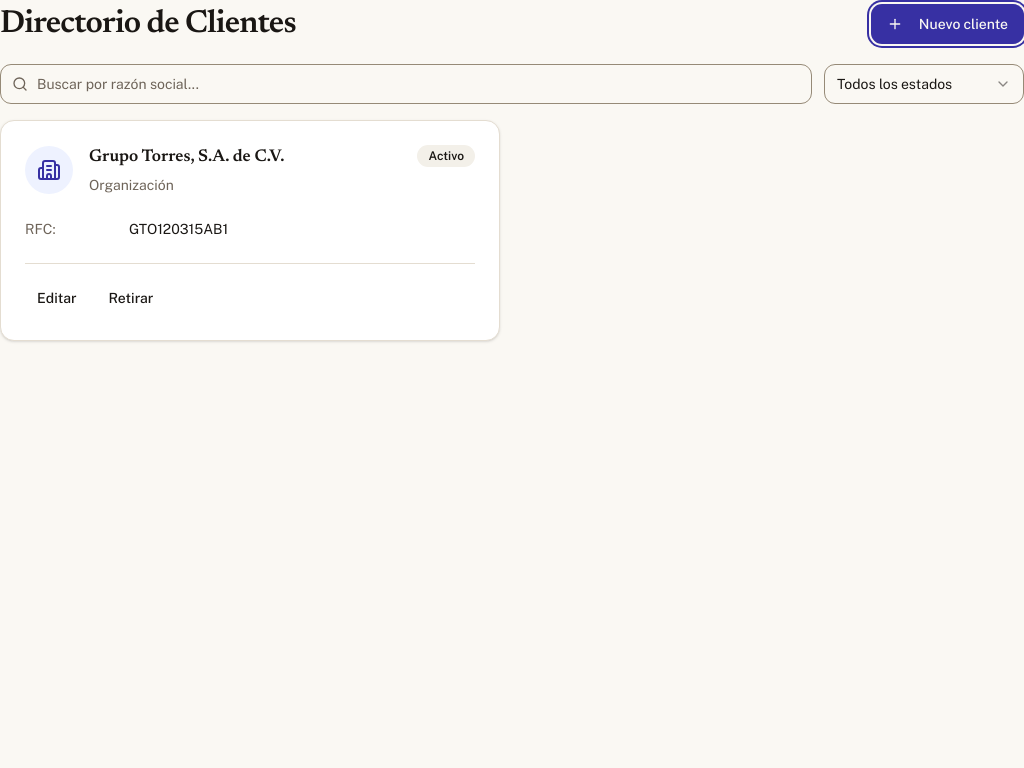
Test case: dialogs keep and return focus › returns focus to the opener when closed with Escape
Expected: the heading "Grupo Torres, S.A. de C.V." is shown, [89,145,284,170]
Click the button "Nuevo cliente": (947, 24) [871,4,1023,44]
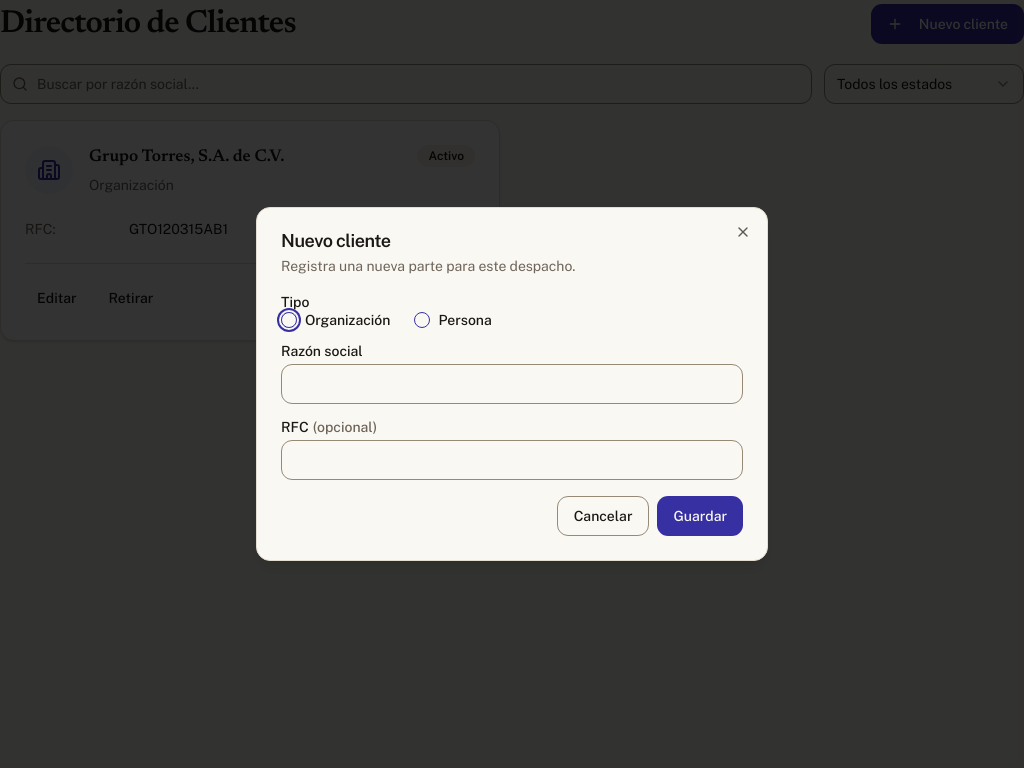
Expected: the dialog is shown, [256,207,768,561]
Press Escape
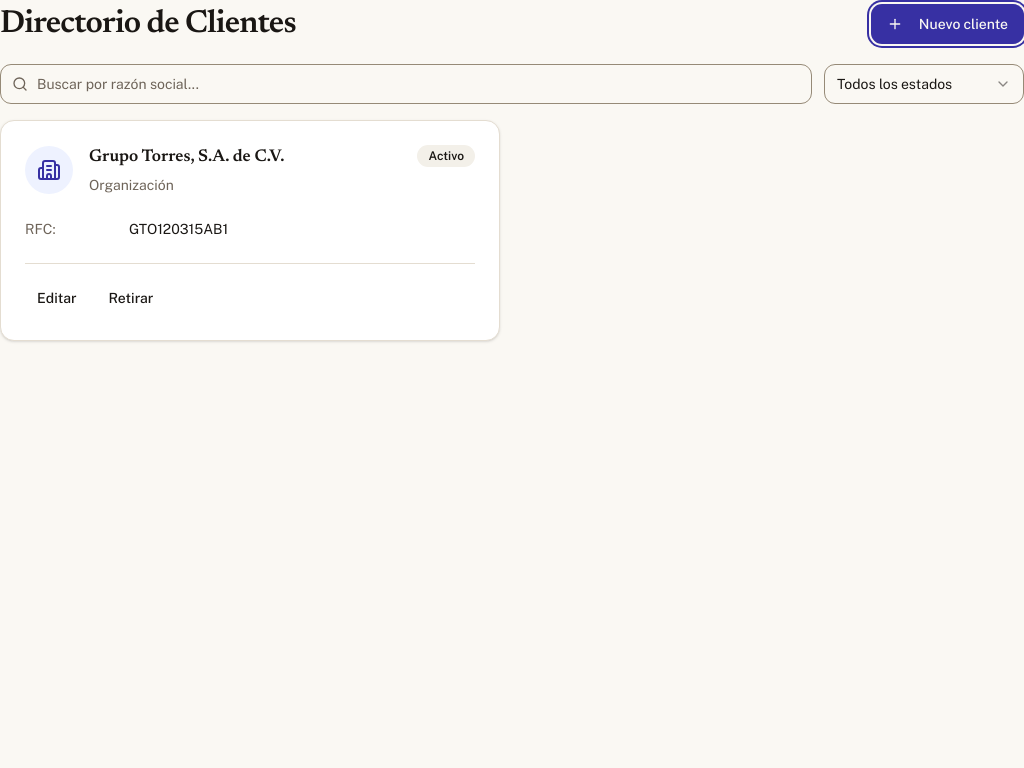
Expected: the dialog is gone
